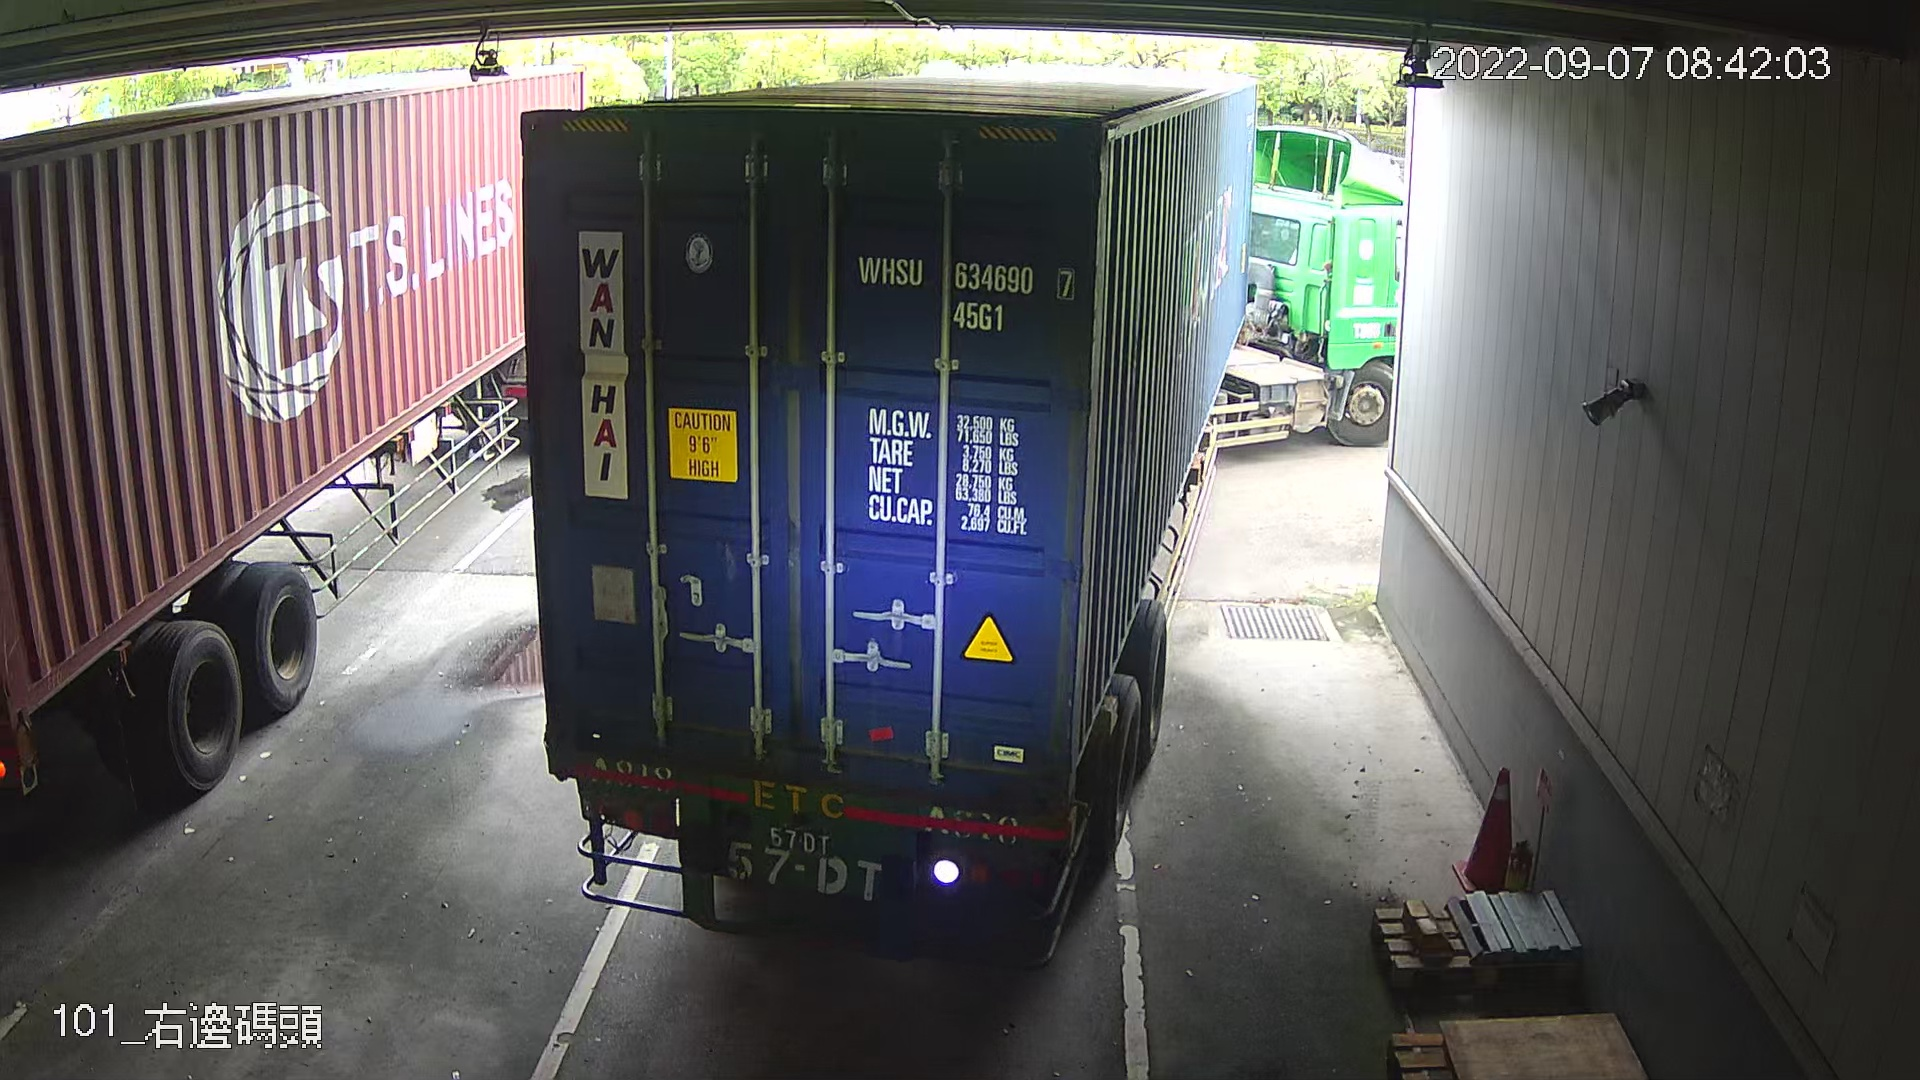container: (851, 244, 1084, 345)
